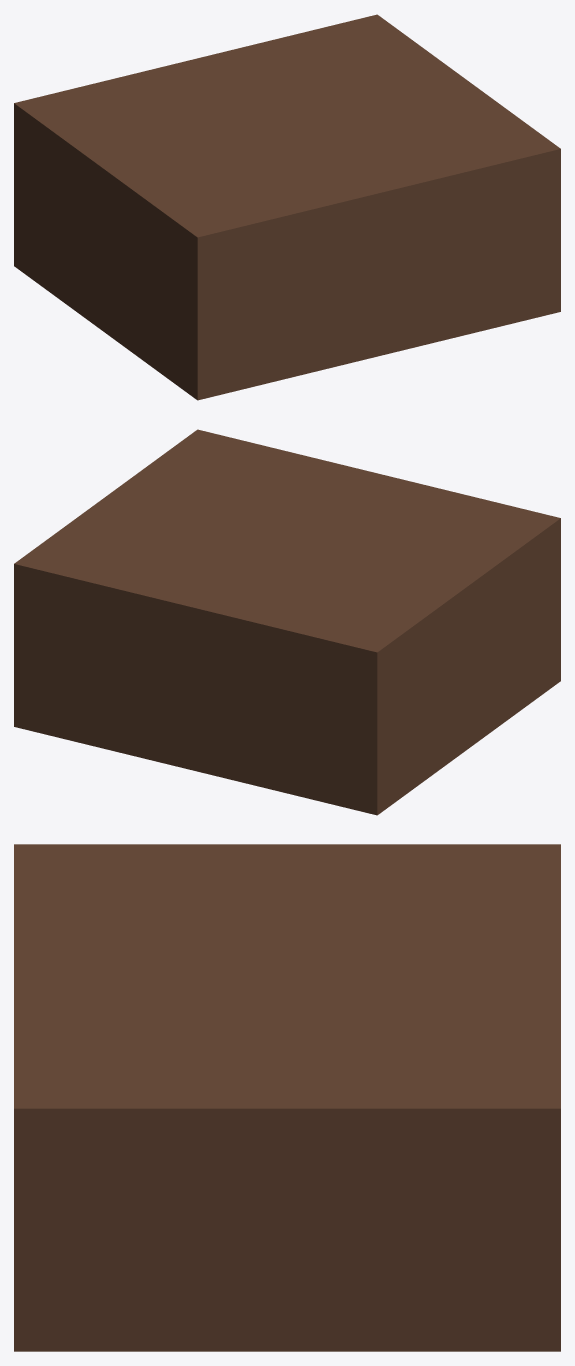
File: chr_hair_01.glb
3 views of the same model, one above another, from view 1: azimuth 30°, elevation 25°; view 2: azimuth 150°, elevation 25°; view 3: azimuth 270°, elevation 25° (orthographic). The views are drawn at different scales.
Parts seen in each view (by area): view 1: chr_hair_01; view 2: chr_hair_01; view 3: chr_hair_01.
Boxes of the visible parts, x1,y1,x2,y2 form: chr_hair_01: [14, 14, 560, 400]; chr_hair_01: [14, 429, 560, 815]; chr_hair_01: [14, 844, 560, 1351].
Size of the model in its own units: 0.56 by 0.24 by 0.49.
1 material, 1 textured.
